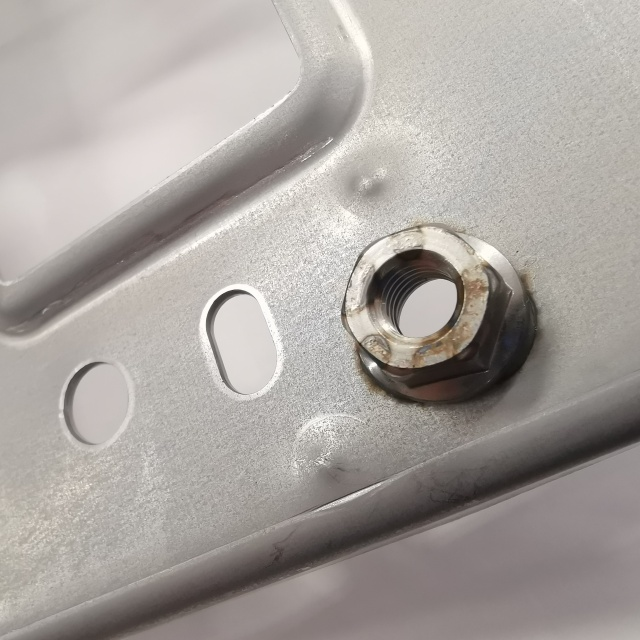dog: (337, 219, 542, 412)
